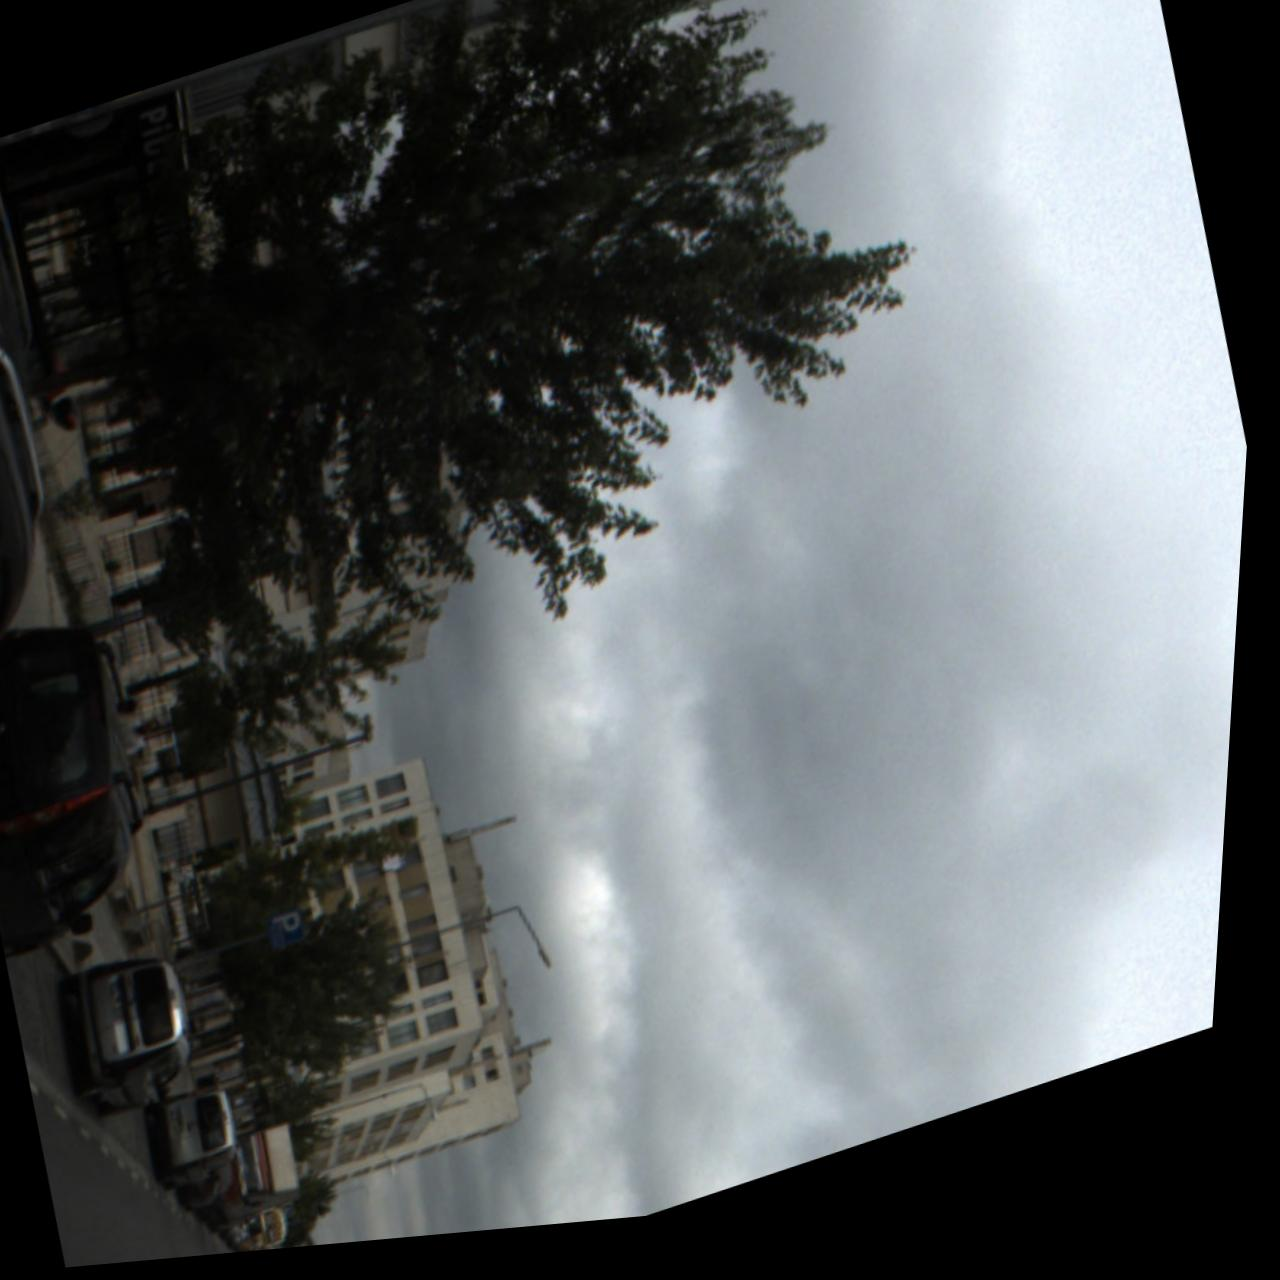SignStore: (129, 91, 202, 307)
